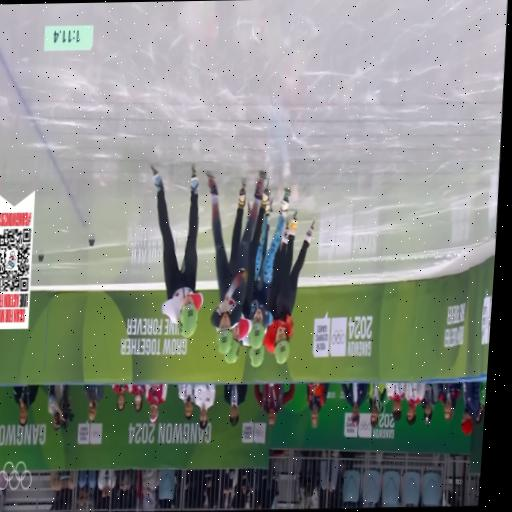Skater: (207, 172, 264, 353), (151, 167, 202, 337), (224, 186, 267, 362), (263, 213, 313, 363), (248, 189, 289, 352), (258, 201, 271, 274)
